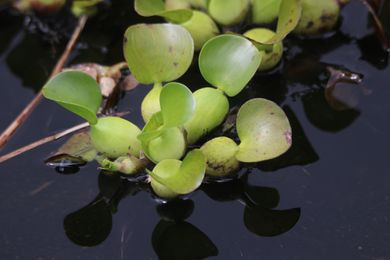water_hyacinth: (38, 0, 340, 199)
